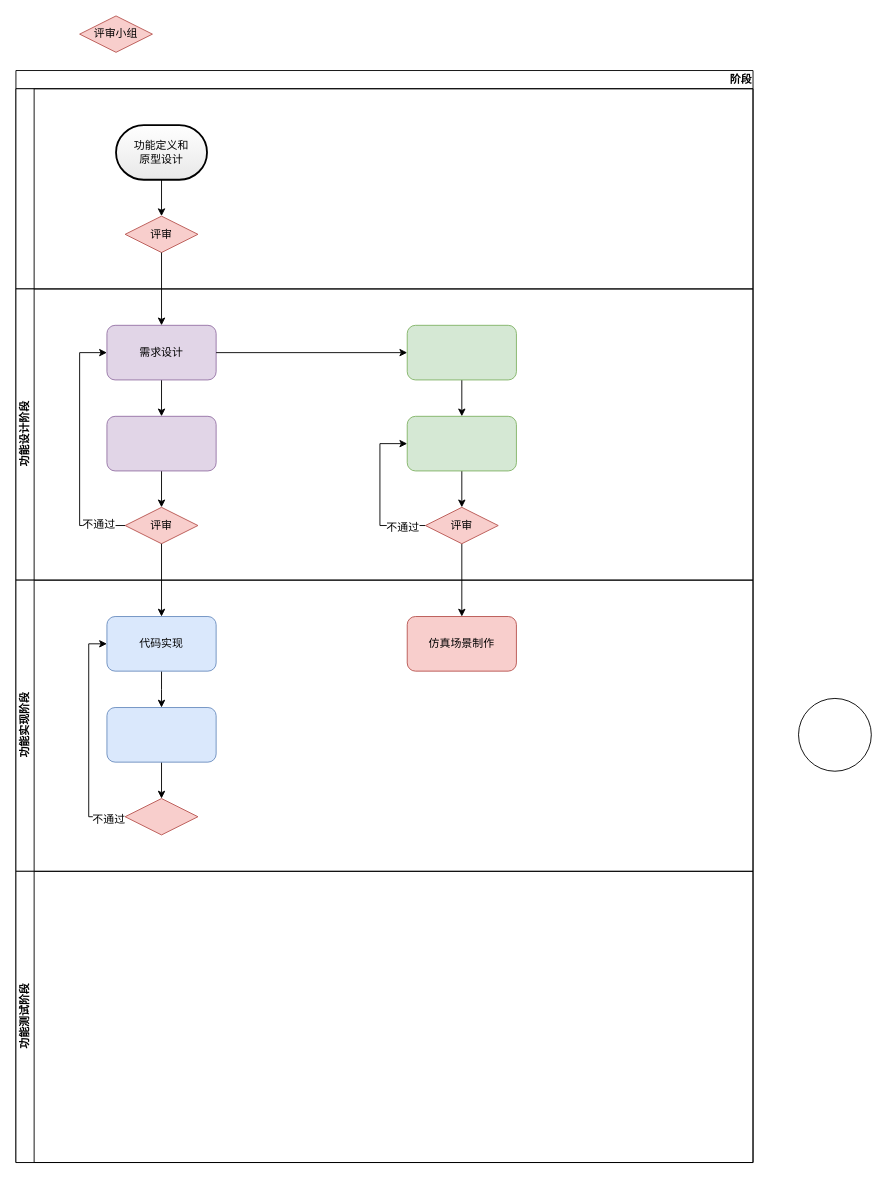
Image size: 887x1178. Some labels were removed from this diagram. The box of each missing label's shape, as (x1, y1, x2, y2) in pixels:
代码扫描: (106, 707, 216, 762)
代码评审: (124, 798, 198, 835)
功能定义阶段: (15, 88, 753, 289)
功能设计: (106, 415, 216, 471)
测试方案: (406, 324, 516, 380)
测试用例: (406, 415, 516, 471)
